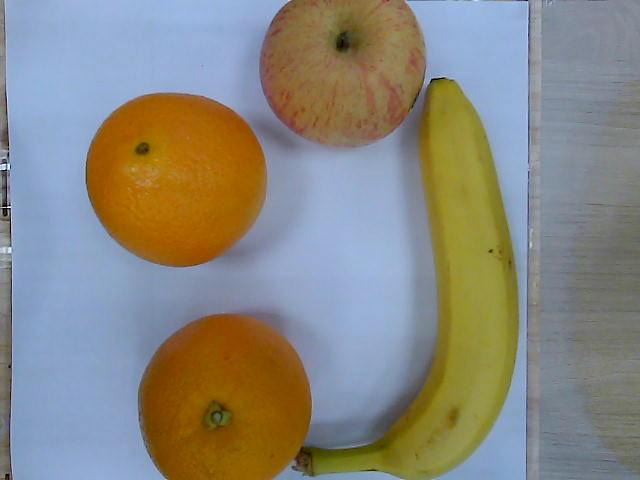fresh_apple: (260, 1, 427, 146)
fresh_banana: (302, 77, 522, 480)
fresh_orange: (85, 92, 268, 266), (138, 314, 311, 480)
